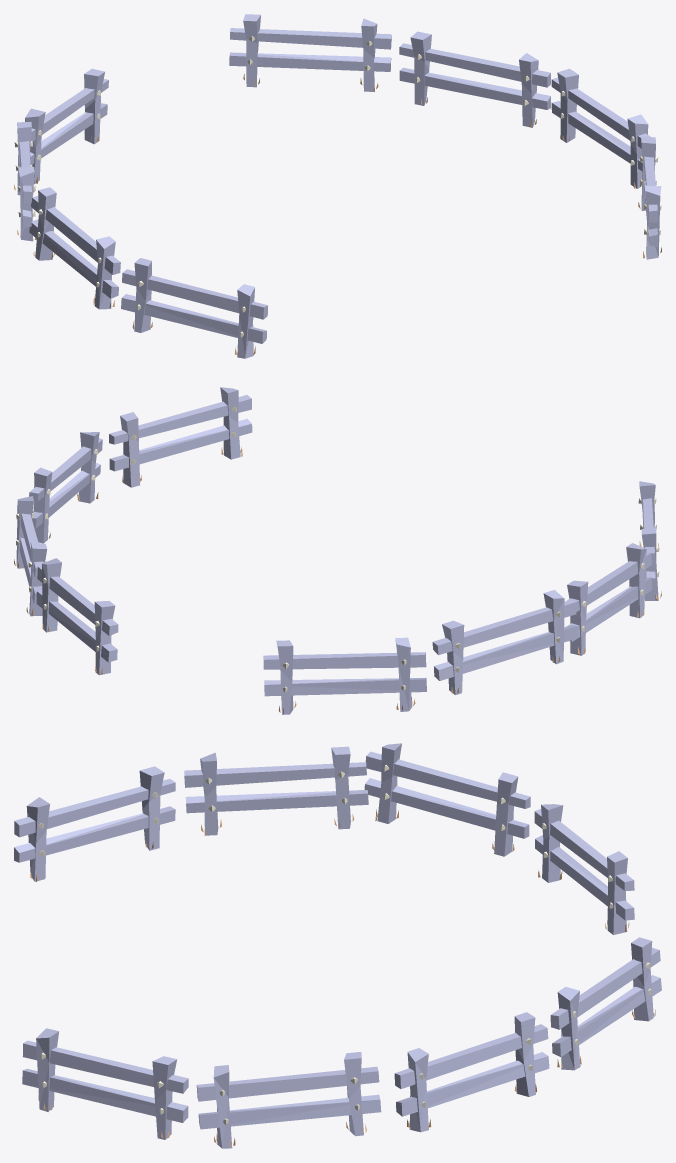
Rendered from fence-purple.gltf.
The picture shows the model from 3 angles, top to bottom: view 1: azimuth 30°, elevation 25°; view 2: azimuth 150°, elevation 25°; view 3: azimuth 270°, elevation 25°; orthographic projection. The views are drawn at different scales.
Parts seen in each view (by area): view 1: Cube.034, Cube.038, Cube.031, Cube.035, Cube.029, Cube.037, Cube.030, Cube.036; view 2: Cube.037, Cube.036, Cube.030, Cube.038, Cube.035, Cube.029, Cube.031, Cube.034; view 3: Cube.029, Cube.030, Cube.035, Cube.031, Cube.036, Cube.034, Cube.038, Cube.037.
Boxes of the visible parts, x1,y1,x2,y2 form: Cube.034: (121,258,267,358); Cube.038: (229,14,391,91); Cube.031: (399,31,550,127); Cube.035: (29,187,120,309); Cube.029: (551,68,651,188); Cube.037: (25,68,108,184); Cube.030: (638,137,661,259); Cube.036: (14,122,36,241); Cube.037: (263,637,426,714); Cube.036: (432,590,577,695); Cube.030: (109,387,252,487); Cube.038: (36,558,118,675); Cube.035: (566,543,651,655); Cube.029: (29,432,102,543); Cube.031: (14,496,47,616); Cube.034: (638,481,661,600); Cube.029: (196,1052,381,1148); Cube.030: (22,1028,188,1139); Cube.035: (184,746,368,835); Cube.031: (394,1012,549,1132); Cube.036: (364,743,530,856); Cube.034: (14,766,175,881); Cube.038: (550,937,661,1070); Cube.037: (534,804,634,934).
Size of the model in its own units: 11.29 by 1.8 by 10.03.
